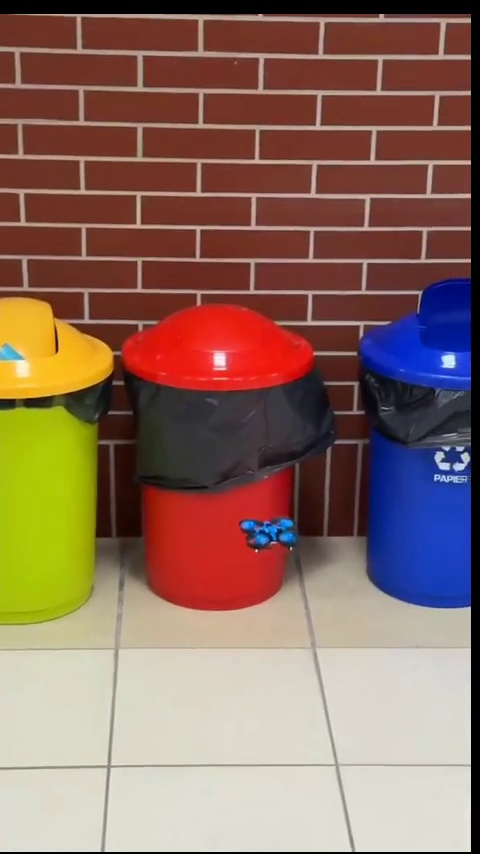drone: (241, 521, 299, 552)
